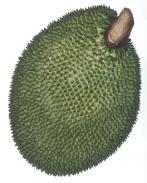jackfruit: (7, 3, 143, 177)
